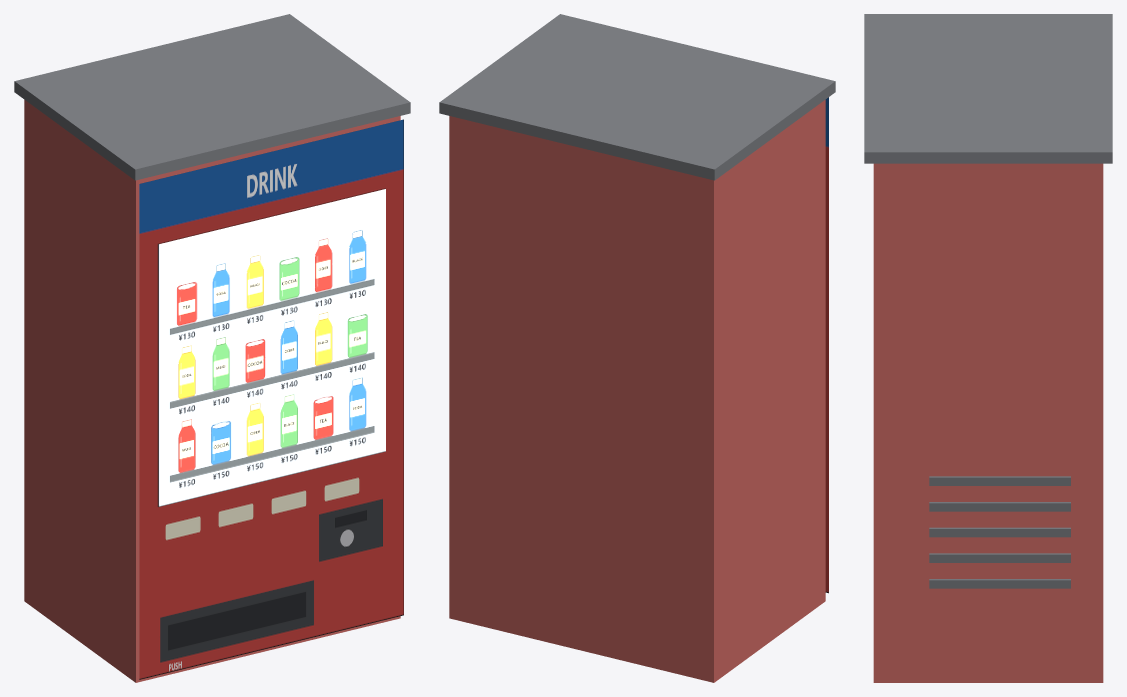
File: prop-vending-drinks.glb
3 views of the same model, side by side, from view 1: azimuth 30°, elevation 25°; view 2: azimuth 150°, elevation 25°; view 3: azimuth 270°, elevation 25° (orthographic). The views are drawn at different scales.
Parts seen in each view (by area): view 1: vend-face, vend-body, vend-window, vend-cap; view 2: vend-body, vend-cap, vend-face; view 3: vend-body, vend-cap, vend-grille.
Part boxes in pixels (x1,y1,x2,y2): vend-face: (139,119,403,679); vend-body: (24,100,400,682); vend-window: (158,189,385,506); vend-cap: (14,14,410,180); vend-body: (449,100,825,682); vend-cap: (439,14,835,180); vend-face: (825,97,828,593); vend-body: (873,163,1103,682); vend-cap: (864,14,1112,163); vend-grille: (929,476,1070,588).
Size of the model in its own units: 1.04 by 1.87 by 0.79.
5 materials, 2 textured.
